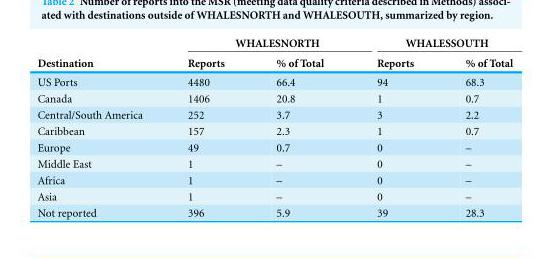table: (36, 36, 512, 218)
table column: (36, 36, 164, 218), (249, 36, 349, 218), (349, 36, 438, 218), (164, 36, 249, 218), (438, 36, 512, 218)
table column header: (36, 36, 512, 72)
table row: (36, 52, 512, 72), (36, 72, 512, 90), (36, 122, 512, 139), (36, 171, 512, 188), (36, 36, 512, 52), (36, 90, 512, 106), (36, 106, 512, 122), (36, 139, 512, 155), (36, 155, 512, 171), (36, 188, 512, 204), (36, 204, 512, 218)
table spanning cell: (36, 36, 164, 72), (164, 36, 349, 52), (349, 36, 512, 52)
